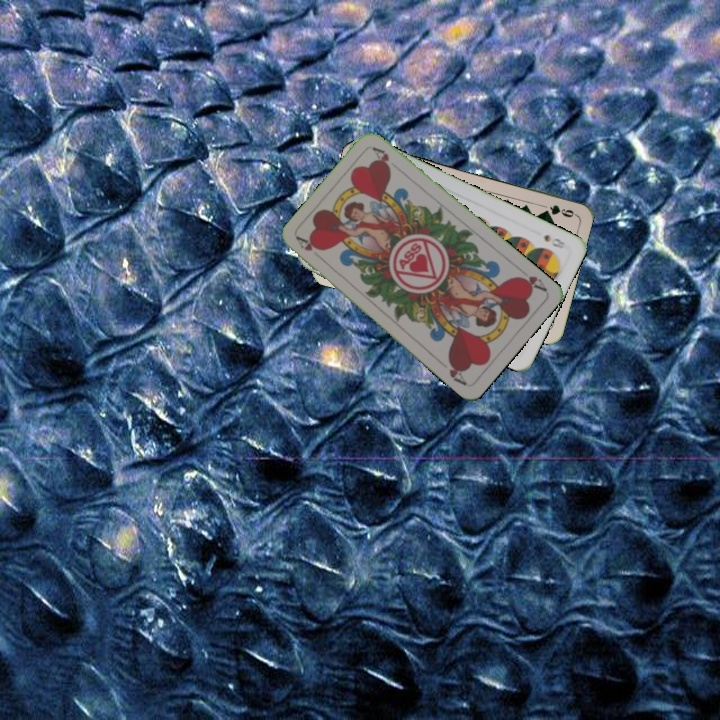G9: (538, 200, 578, 220)
HA: (293, 233, 327, 264), (512, 271, 549, 294)
S8: (540, 230, 568, 251)
